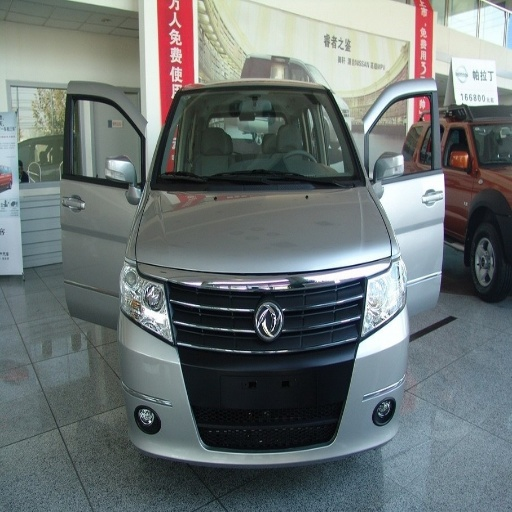front_bumper: (104, 259, 403, 467)
front_left_light: (363, 255, 408, 336)
front_right_light: (120, 257, 170, 340)
hood: (135, 187, 393, 274)
